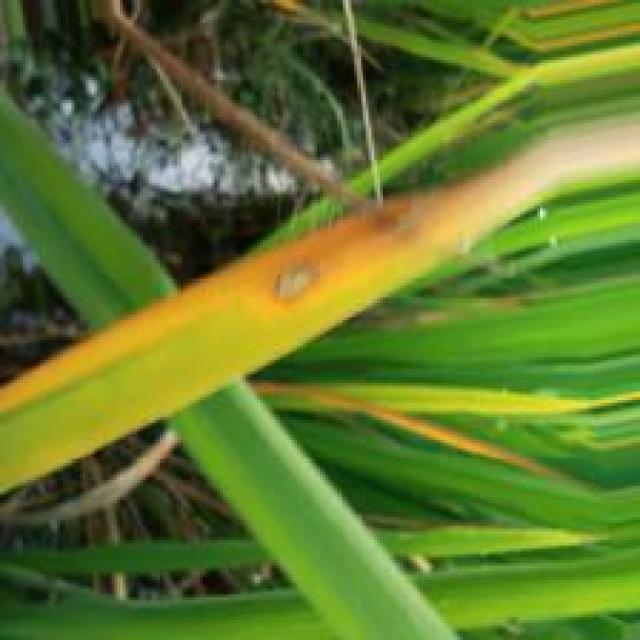Leaf_Blast: (5, 128, 559, 418)
